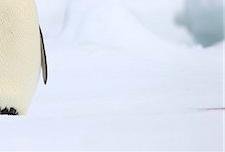Emperor Penguin: (0, 0, 60, 121)
